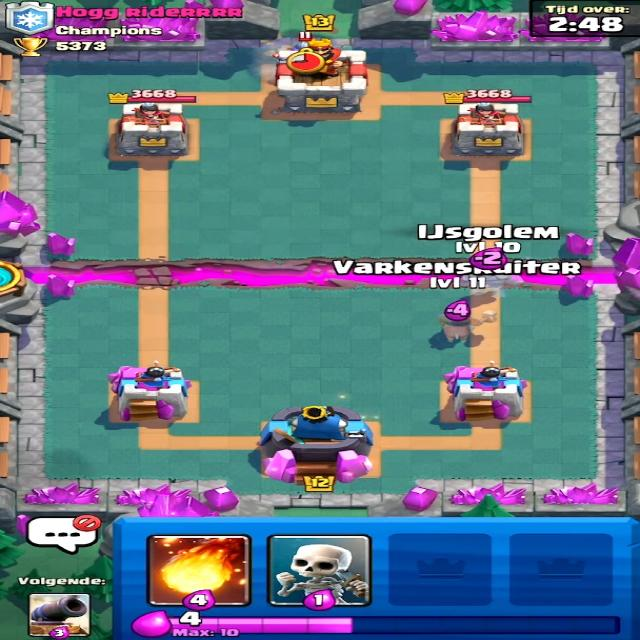Fireball_Card: (151, 536, 242, 606)
Skeleton_Card: (277, 535, 373, 607)
